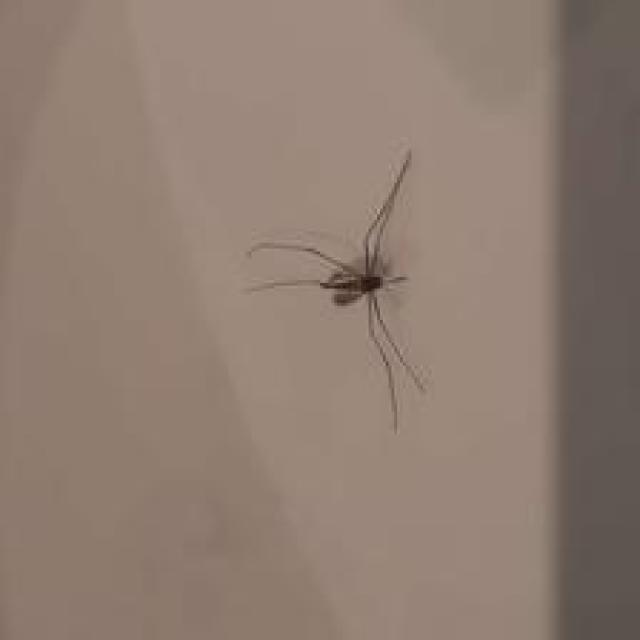Culex: (244, 147, 430, 433)
